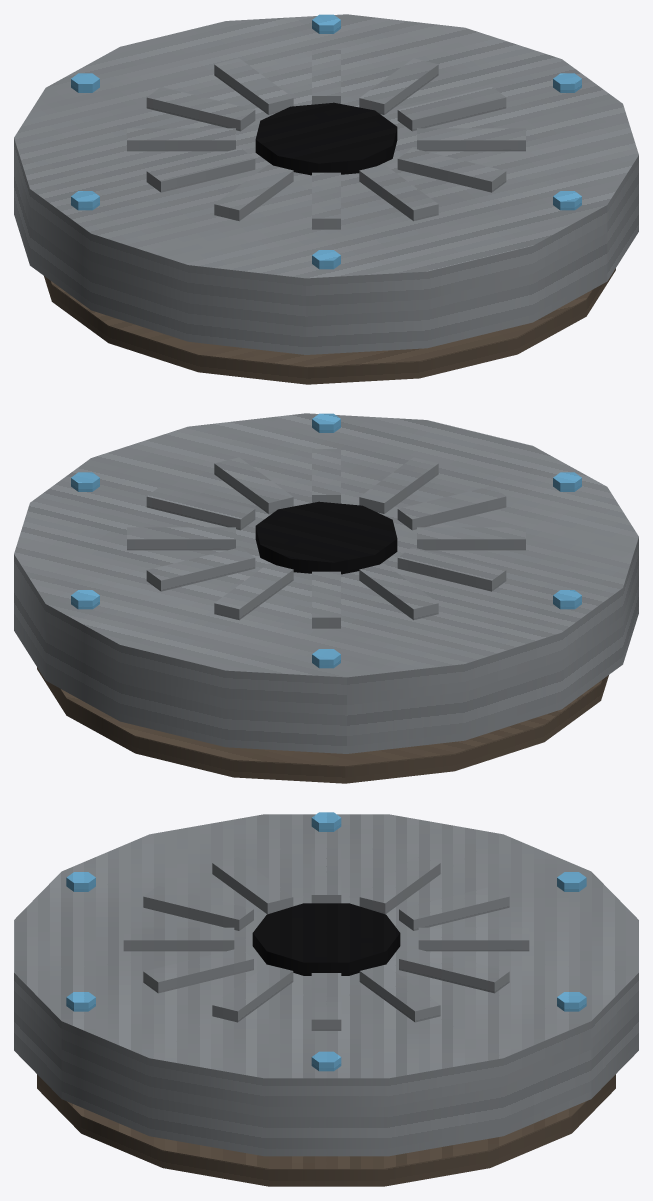
The model's file is embreagem_n1.glb.
3 renders of one model, top to bottom at view 1: azimuth 30°, elevation 25°; view 2: azimuth 150°, elevation 25°; view 3: azimuth 270°, elevation 25°, orthographic.
Visible parts, largest first — view 1: embreagem_n1; view 2: embreagem_n1; view 3: embreagem_n1.
Boxes of the visible parts, x1,y1,x2,y2 form: embreagem_n1: (14,14,638,384); embreagem_n1: (14,413,638,783); embreagem_n1: (14,812,638,1186).
Size of the model in its own units: 0.2542 by 0.075 by 0.2542.
1 material, 1 textured.
